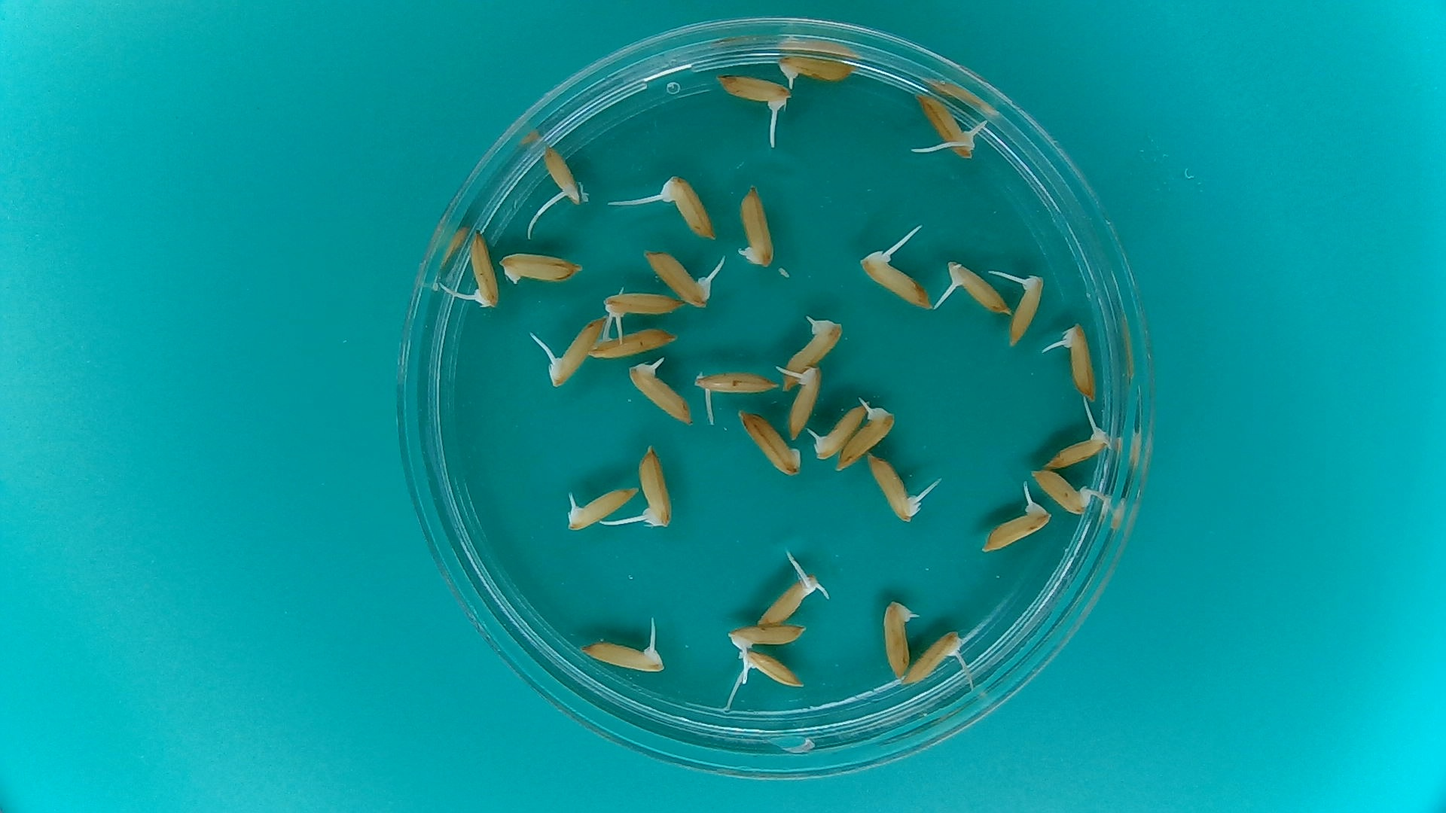no: (736, 406, 802, 478), (734, 181, 776, 269), (498, 248, 586, 288)
yes: (626, 360, 695, 425), (544, 314, 606, 384), (855, 254, 929, 312), (864, 452, 921, 526), (833, 406, 897, 471), (782, 316, 842, 385), (644, 250, 711, 311), (916, 96, 975, 163), (660, 175, 719, 238), (810, 397, 868, 461), (563, 483, 640, 531), (948, 260, 1011, 318), (754, 574, 824, 625), (582, 635, 665, 678), (984, 502, 1050, 556), (902, 631, 964, 687), (633, 448, 674, 531), (735, 650, 805, 696), (1056, 327, 1100, 400), (775, 50, 857, 88), (462, 228, 499, 309), (882, 602, 919, 681), (604, 290, 679, 327), (719, 74, 792, 110), (786, 365, 821, 440), (590, 330, 679, 359), (690, 370, 776, 400), (1030, 469, 1088, 513), (1008, 271, 1042, 346), (1049, 425, 1111, 466), (727, 623, 808, 654), (546, 145, 584, 209)
